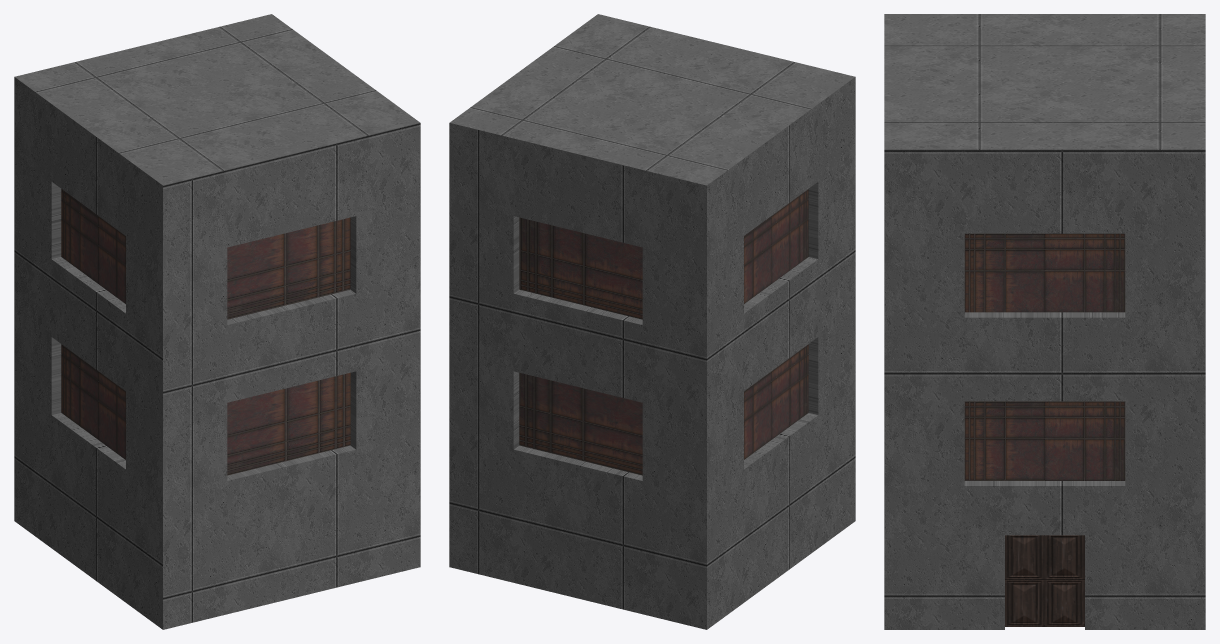
File: Edificio_3.glb
The picture shows the model from 3 angles, left to right: view 1: azimuth 30°, elevation 25°; view 2: azimuth 150°, elevation 25°; view 3: azimuth 270°, elevation 25°; orthographic projection. The views are drawn at different scales.
Parts seen in each view (by area): view 1: Cube; view 2: Cube; view 3: Cube.
Boxes of the visible parts, left/top/right/bottom form: Cube: left=14, top=14, right=420, bottom=629; Cube: left=449, top=14, right=855, bottom=629; Cube: left=884, top=14, right=1205, bottom=629.
Bounding box in the file's own units: 10.83 × 17.86 × 10.83.
Materials: 3 (3 with a texture image).
